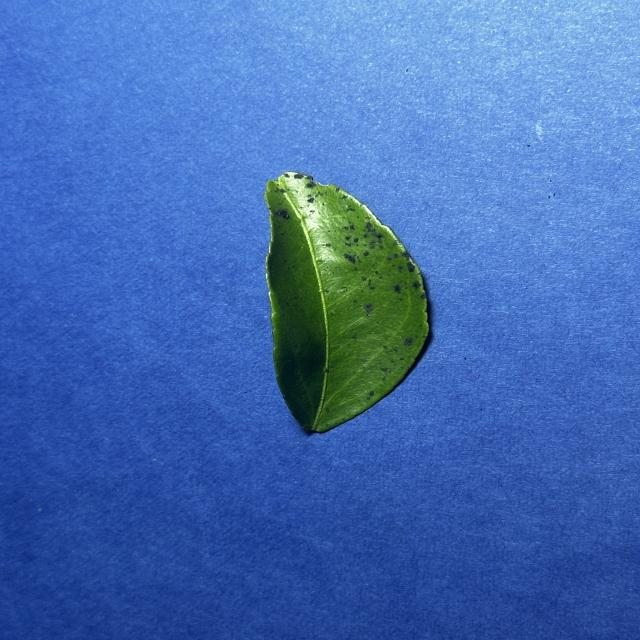sooty_mold: (265, 171, 428, 433)
